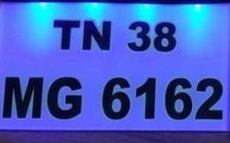1: (136, 76, 157, 120)
2: (194, 76, 224, 121)
3: (127, 20, 152, 52)
6: (100, 77, 134, 121), (164, 77, 193, 121)
8: (153, 20, 178, 53)
G: (47, 76, 83, 120)
M: (2, 76, 43, 120)
N: (82, 19, 112, 52)
T: (52, 19, 81, 52)
